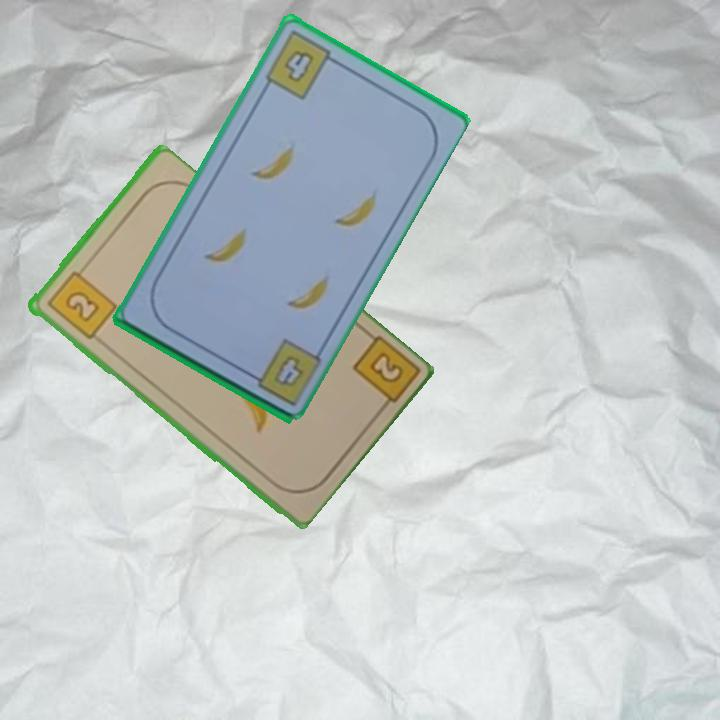2b: (43, 262, 119, 343), (348, 332, 419, 417)
4b: (260, 26, 342, 103), (270, 351, 306, 390)
